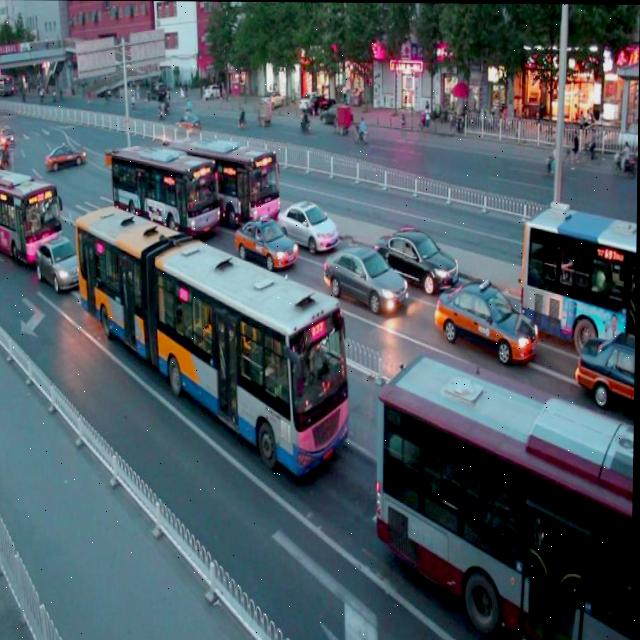car: (434, 282, 539, 376), (320, 243, 404, 322), (376, 228, 459, 299), (574, 324, 636, 399), (232, 214, 297, 277), (275, 198, 337, 260), (36, 237, 86, 292)
van: (71, 201, 352, 481), (377, 353, 636, 640), (518, 205, 638, 347), (109, 139, 220, 248), (167, 132, 281, 233), (0, 161, 61, 256)
